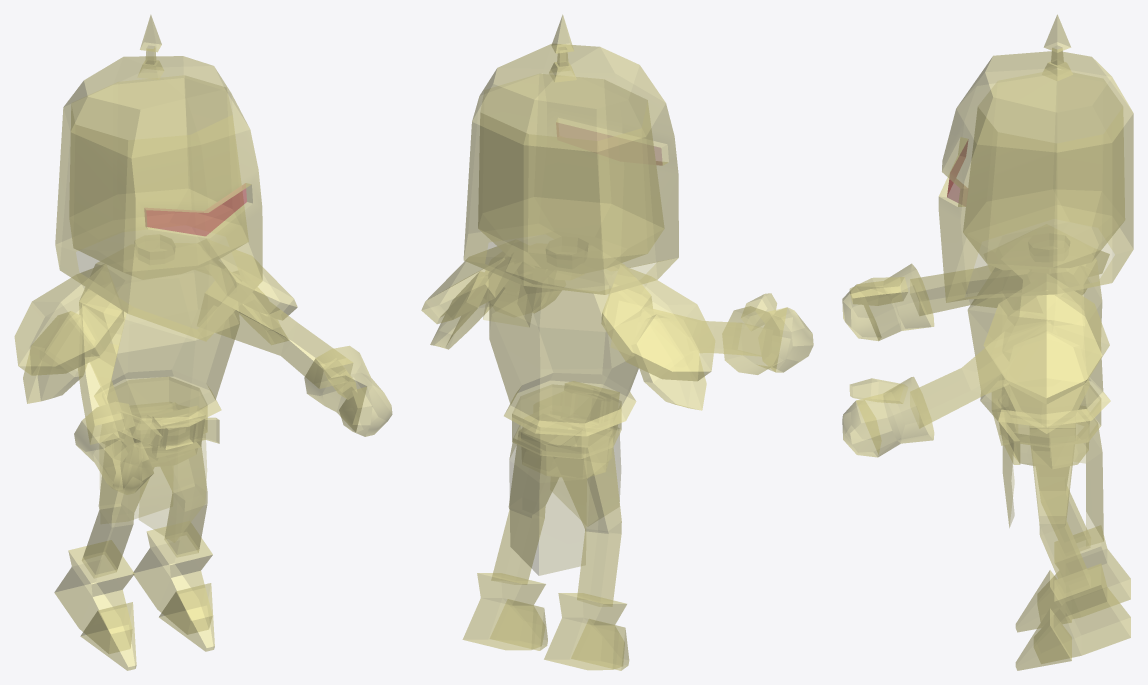
File: ghost_r90.glb
3 views of the same model, side by side, from view 1: azimuth 30°, elevation 25°; view 2: azimuth 150°, elevation 25°; view 3: azimuth 270°, elevation 25° (orthographic). The views are drawn at different scales.
Parts seen in each view (by area): view 1: Soldier_66_Stendardi_Mat3_0; view 2: Soldier_66_Stendardi_Mat3_0; view 3: Soldier_66_Stendardi_Mat3_0.
Part boxes in pixels (box(x1,y1,x2,y2)): Soldier_66_Stendardi_Mat3_0: box(14, 15, 392, 670); Soldier_66_Stendardi_Mat3_0: box(421, 14, 813, 670); Soldier_66_Stendardi_Mat3_0: box(842, 14, 1133, 670).
Bounding box in the file's own units: 0.9252 × 1.94 × 0.8071.
1 material, 1 textured.
